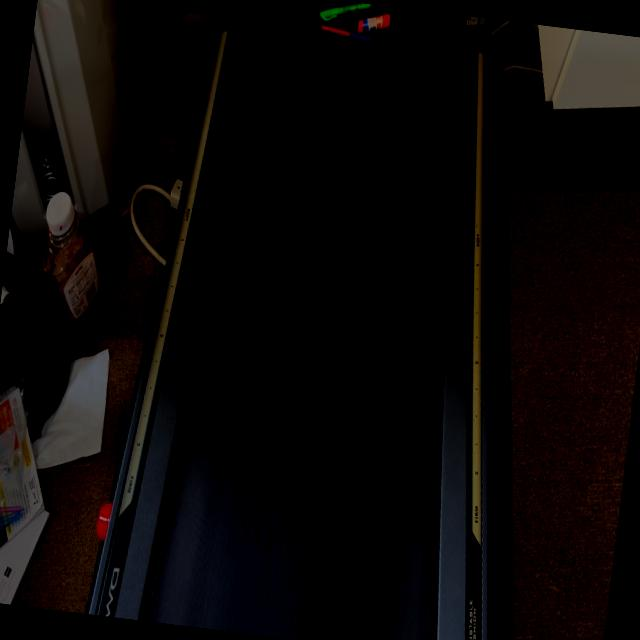Trash: (317, 0, 372, 28), (320, 22, 374, 45), (356, 11, 390, 34)
